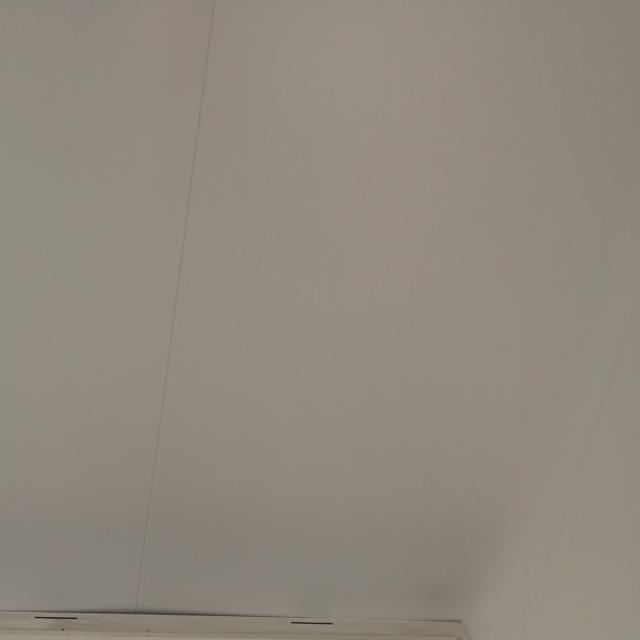fluorescent tube: (0, 604, 492, 639)
